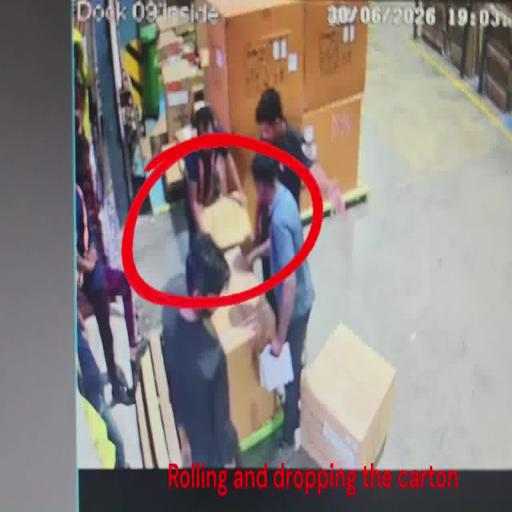carton: (196, 1, 304, 143), (299, 321, 397, 469), (210, 251, 282, 443), (302, 0, 373, 117), (304, 96, 364, 195), (194, 192, 255, 256), (158, 58, 205, 134), (221, 128, 265, 201), (150, 117, 186, 188), (156, 26, 196, 68), (159, 0, 196, 32)
pallet: (312, 180, 371, 224), (237, 401, 284, 456)
person: (232, 151, 316, 461), (161, 232, 244, 469), (74, 184, 138, 408), (254, 88, 346, 216), (74, 298, 130, 469), (180, 104, 244, 244)
